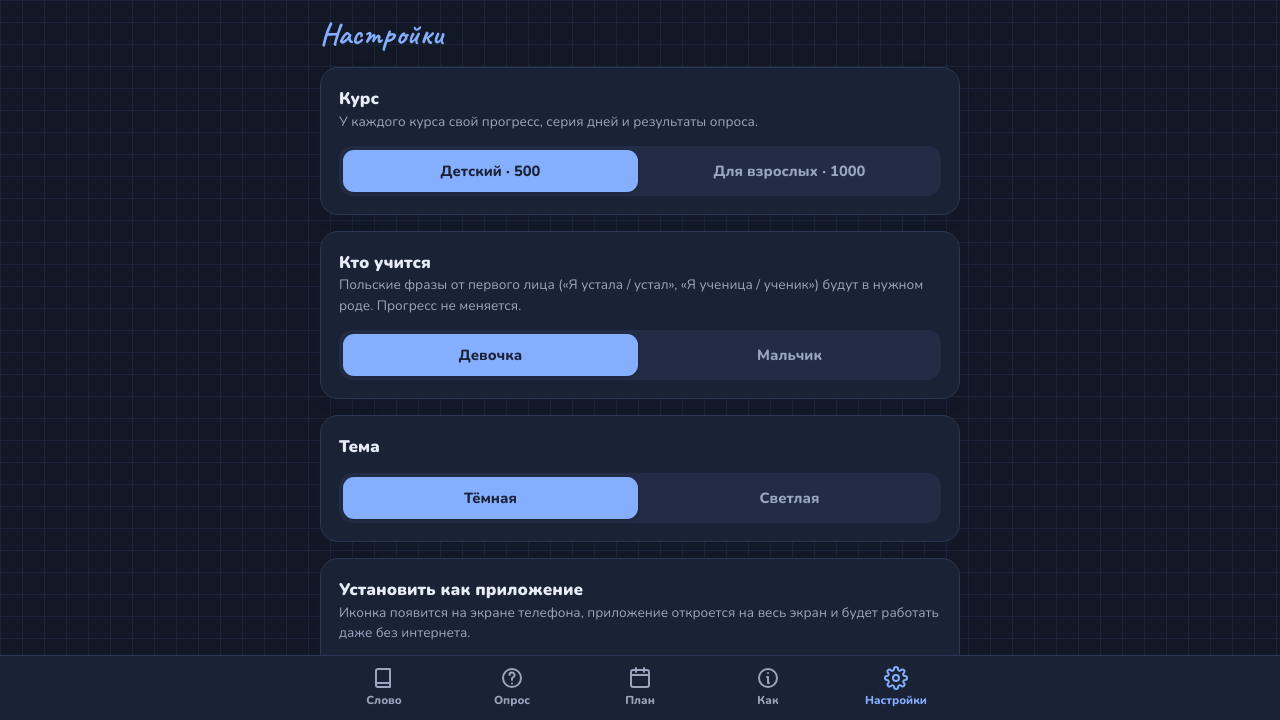
it: "Настройки" › another course → its texts at once, stays on "Настройки"
The width and height of the screenshot is (1280, 720).
Click the button "Для взрослых · 1000" at point(790, 171), box [642,150,937,192]
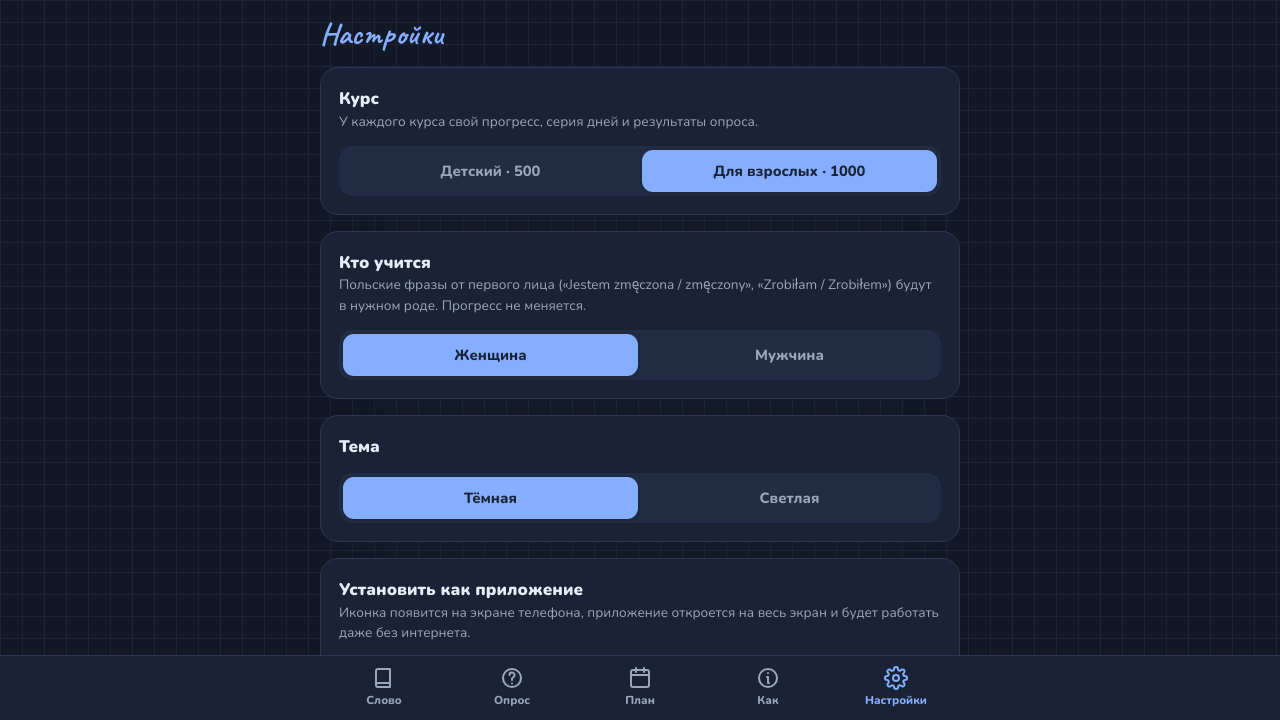
Expected: the text "Польские фразы от первого лица («Jestem zmęczona / zmęczony», «Zrobiłam / Zrobiłem») будут в нужном роде. Прогресс не ме" is shown, [339,275,932,315]
